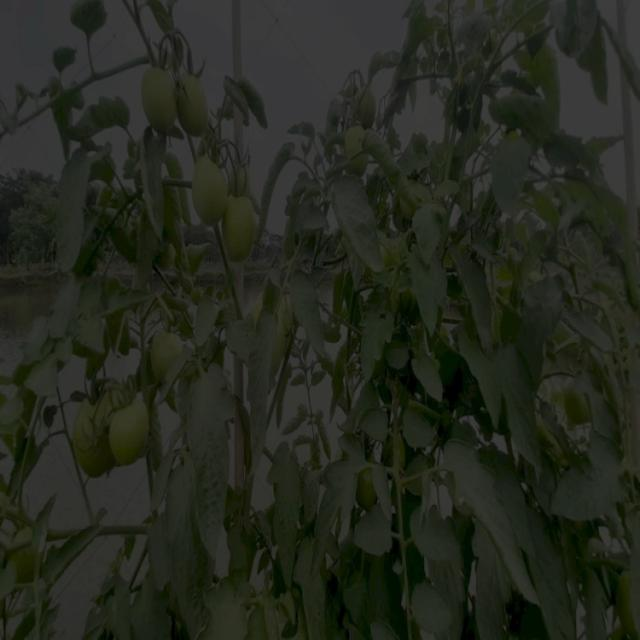tomato: (72, 382, 151, 478), (244, 290, 313, 388), (143, 64, 209, 139), (8, 528, 55, 593), (562, 375, 605, 437), (230, 197, 262, 268), (196, 154, 226, 224), (149, 328, 187, 381), (336, 129, 377, 178), (397, 177, 436, 225), (357, 458, 388, 512), (353, 82, 381, 123), (157, 241, 186, 275), (375, 236, 403, 268), (532, 419, 554, 455), (452, 70, 464, 87)
